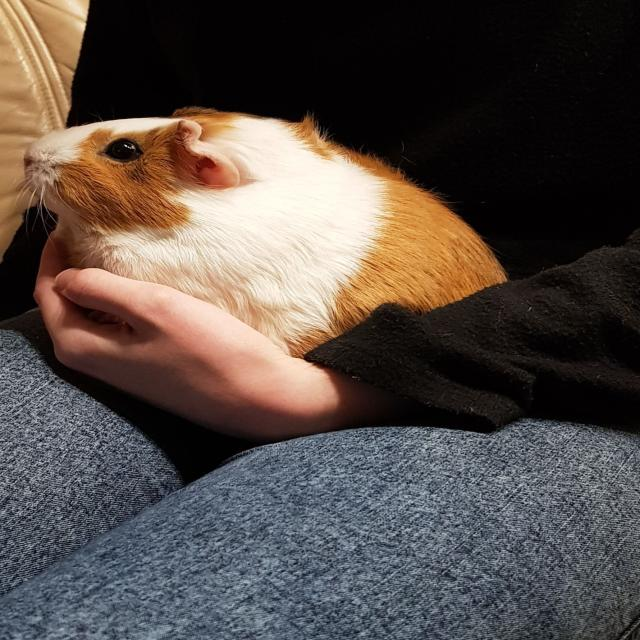guinea pig: (20, 103, 509, 360)
